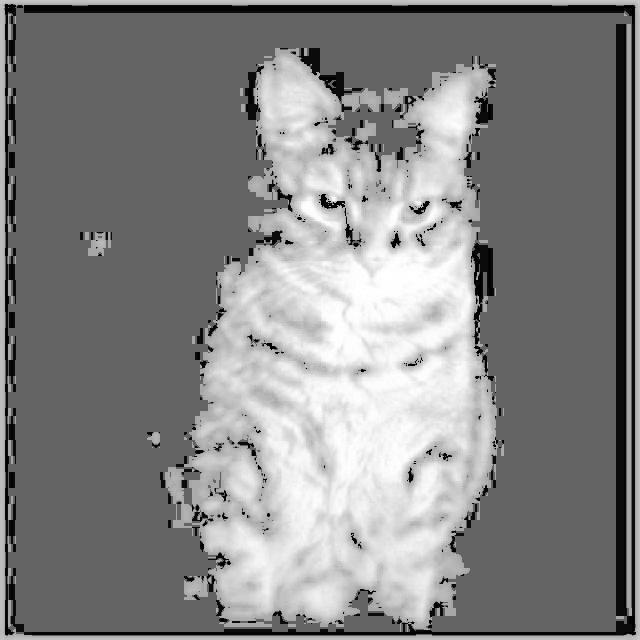Cat: (193, 40, 502, 636)
